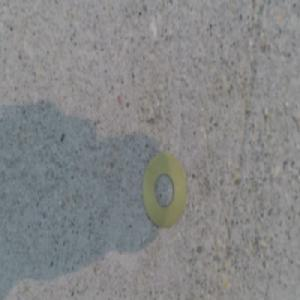Washer: (143, 149, 185, 227)
